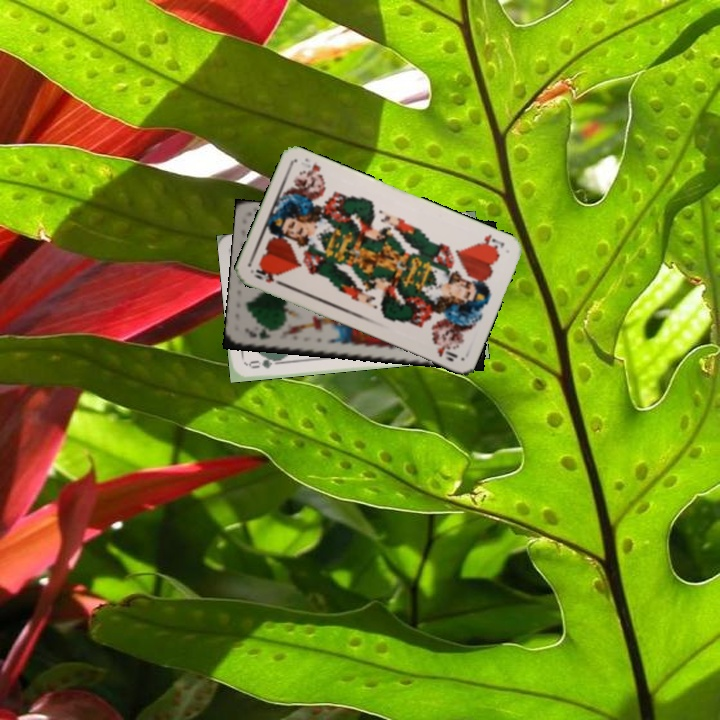GK: (245, 327, 273, 342)
GO: (243, 354, 284, 371)
HO: (250, 265, 288, 289), (473, 231, 507, 254)
